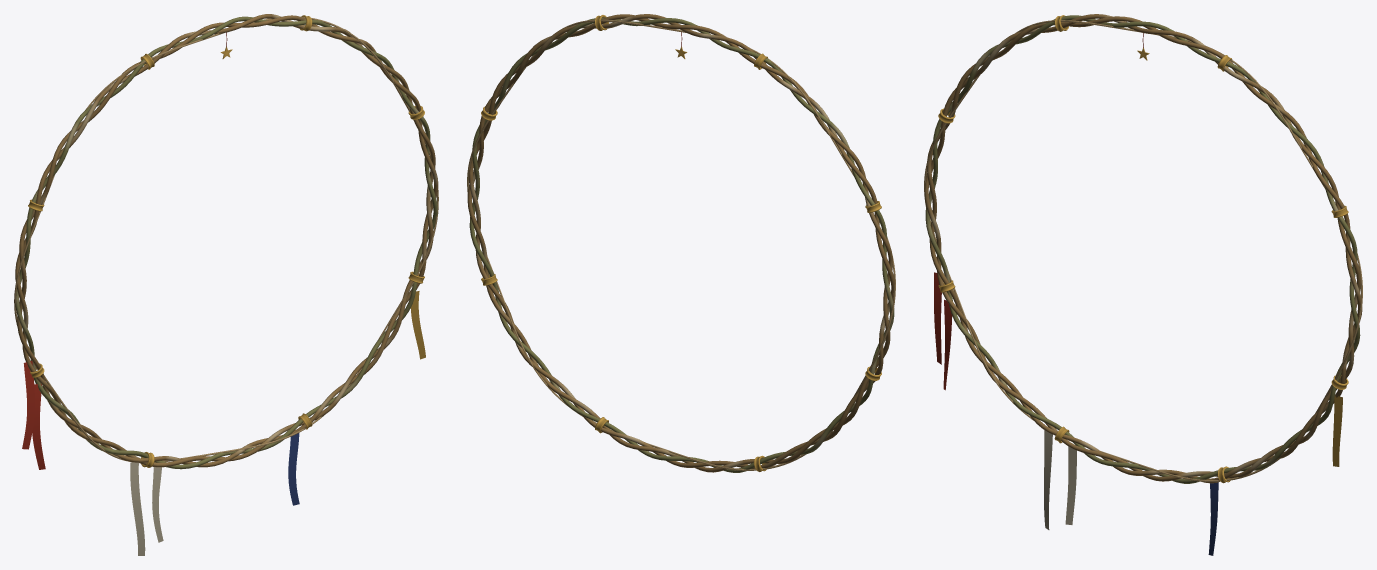
Rendered from ring_willow.glb.
3 renders of one model, left to right at view 1: azimuth 30°, elevation 25°; view 2: azimuth 150°, elevation 25°; view 3: azimuth 330°, elevation 25°, orthographic. The views are drawn at different scales.
Visible parts, largest first — view 1: ring_willow_LOD0; view 2: ring_willow_LOD0; view 3: ring_willow_LOD0.
Part boxes in pixels (x1,y1,x2,y2): ring_willow_LOD0: (14, 14, 438, 555); ring_willow_LOD0: (467, 14, 895, 472); ring_willow_LOD0: (924, 14, 1362, 555).
Size of what is drawn, in the model's own units: 7.41 by 8.53 by 0.2796.
